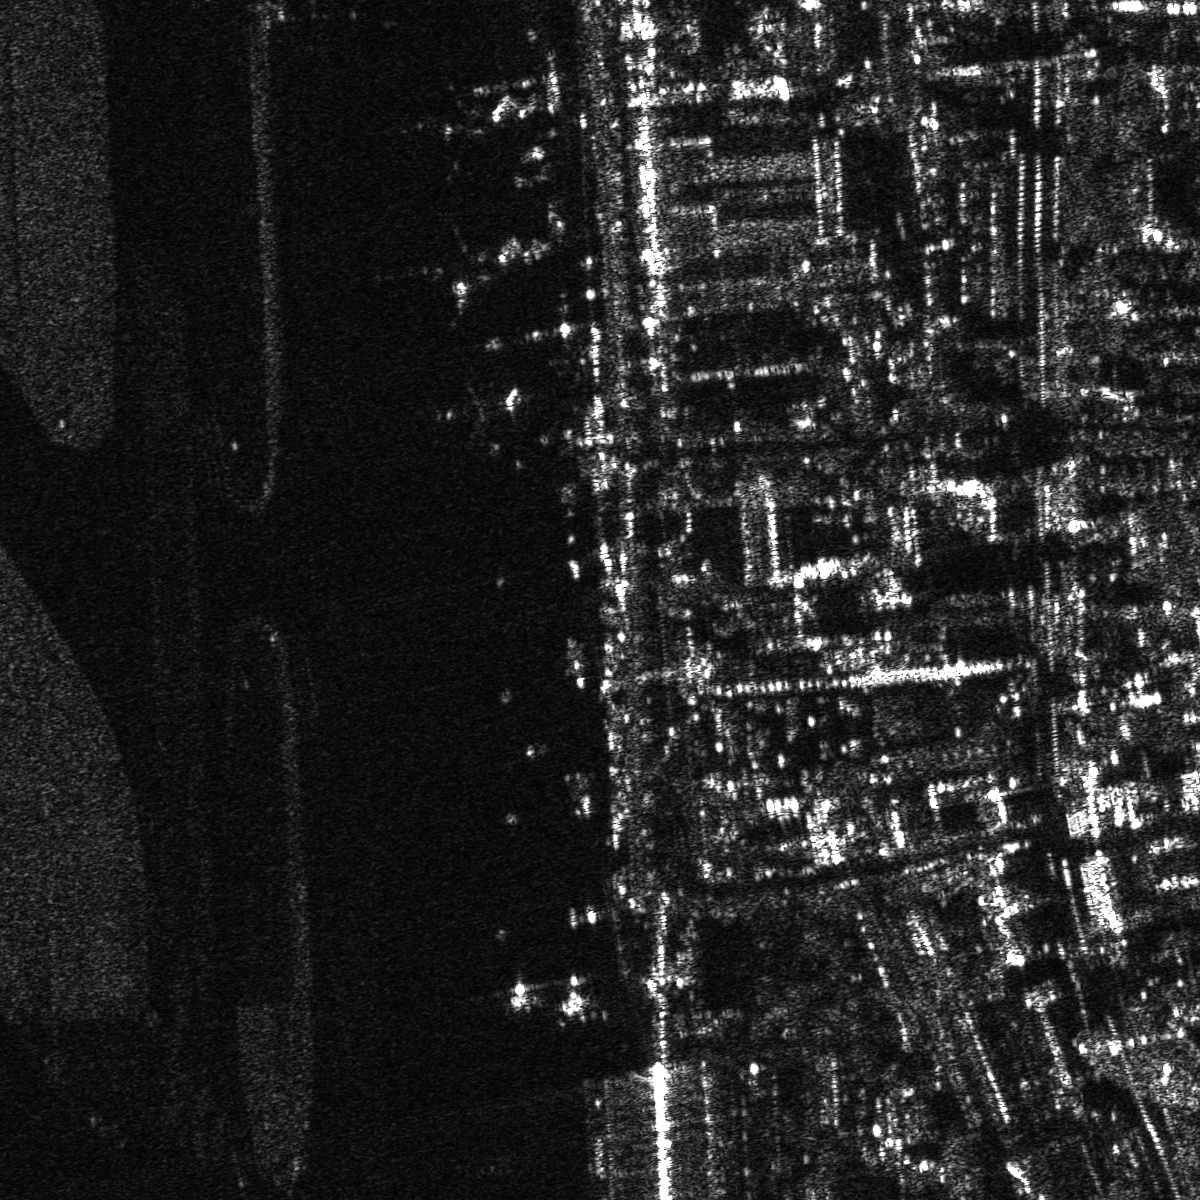ARJ21: (412, 211, 573, 320)
other: (443, 41, 575, 166), (434, 381, 520, 451)
